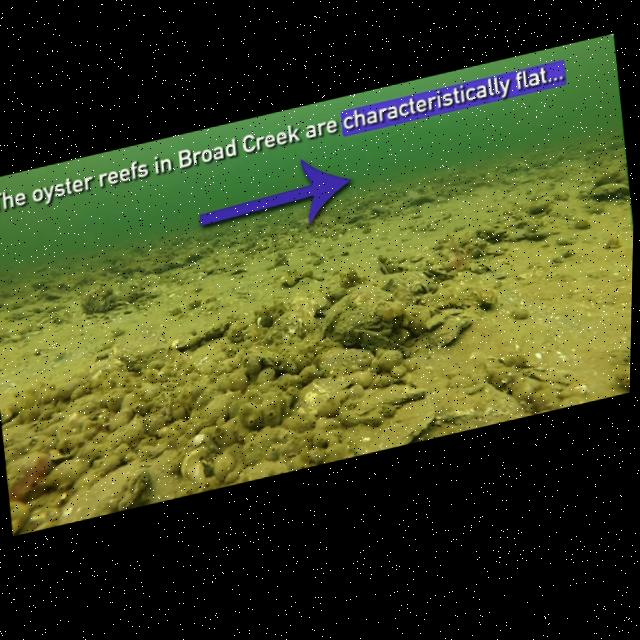Oyster-Closed: (497, 155, 533, 183)
Oyster-Indeterminate: (343, 395, 448, 458), (418, 255, 508, 318), (288, 365, 370, 434), (86, 461, 171, 519), (352, 316, 421, 369), (314, 337, 380, 389), (255, 306, 313, 358), (373, 261, 432, 310), (112, 325, 169, 375), (36, 449, 95, 490), (184, 331, 234, 377), (282, 283, 322, 339), (177, 439, 220, 487), (423, 312, 473, 351), (80, 351, 127, 389), (8, 444, 51, 483), (585, 176, 631, 210), (78, 283, 119, 320), (191, 314, 236, 345), (508, 368, 540, 405), (483, 360, 513, 399), (9, 495, 36, 537), (164, 327, 199, 359), (548, 388, 592, 412), (528, 382, 559, 416), (522, 192, 558, 221), (2, 432, 37, 461), (400, 186, 440, 210), (591, 160, 624, 189), (461, 255, 496, 281), (46, 439, 82, 464), (508, 300, 536, 331), (41, 282, 76, 305), (539, 370, 569, 396), (500, 225, 530, 250), (114, 272, 141, 297), (27, 271, 56, 294), (556, 378, 586, 399), (298, 211, 326, 233), (320, 221, 350, 241), (517, 213, 541, 237), (368, 196, 393, 219), (447, 238, 472, 261), (479, 237, 504, 260), (182, 248, 206, 269), (474, 222, 499, 242), (466, 231, 491, 250), (572, 214, 594, 235), (511, 350, 530, 373), (184, 271, 209, 288), (195, 258, 217, 277), (212, 259, 237, 275), (604, 235, 625, 253), (342, 210, 367, 225), (0, 403, 15, 426), (463, 241, 482, 258), (116, 289, 137, 302), (167, 256, 184, 272), (150, 260, 169, 274), (33, 263, 52, 277), (130, 242, 146, 256), (195, 267, 207, 282)
Oyster-Open: (317, 282, 394, 345), (130, 285, 161, 304), (115, 297, 130, 310)
